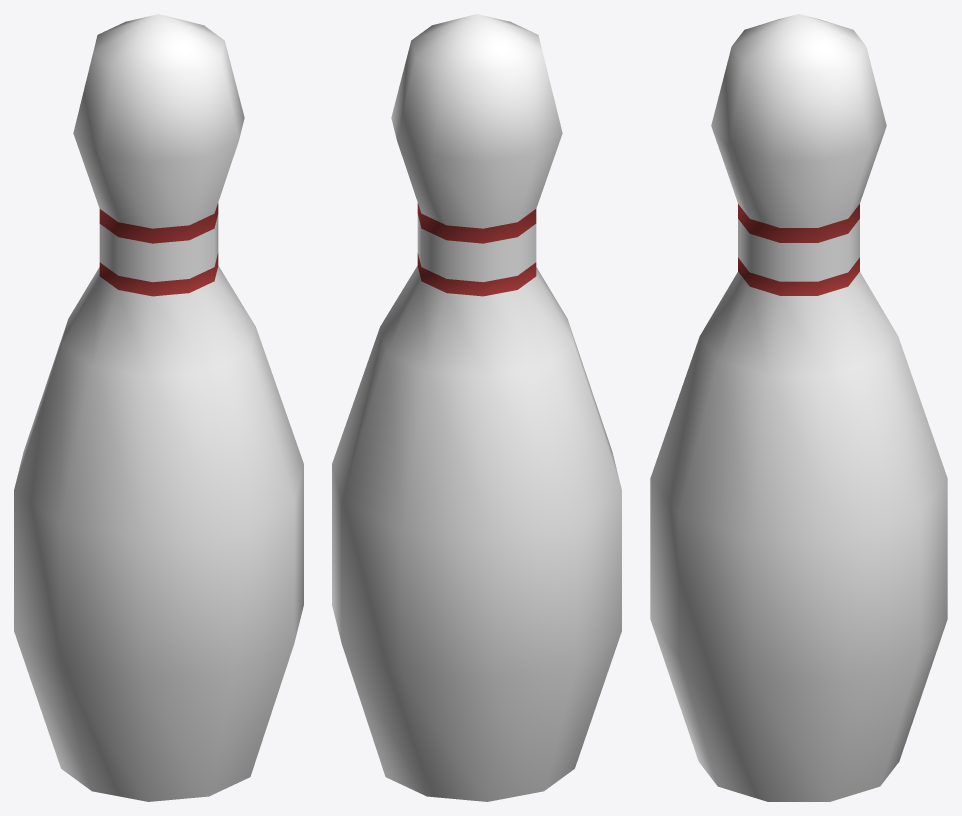
File: bowling.FBX
3 renders of one model, left to right at view 1: azimuth 30°, elevation 25°; view 2: azimuth 150°, elevation 25°; view 3: azimuth 270°, elevation 25°, orthographic.
Visible parts, largest first — view 1: bowling; view 2: bowling; view 3: bowling.
Boxes of the visible parts, bbox=[...] form: bowling: bbox=[14, 14, 303, 801]; bowling: bbox=[332, 14, 621, 801]; bowling: bbox=[650, 14, 947, 801].
Size of the model in its own units: 0.8614 by 2.52 by 0.9058.
1 material, 1 textured.
